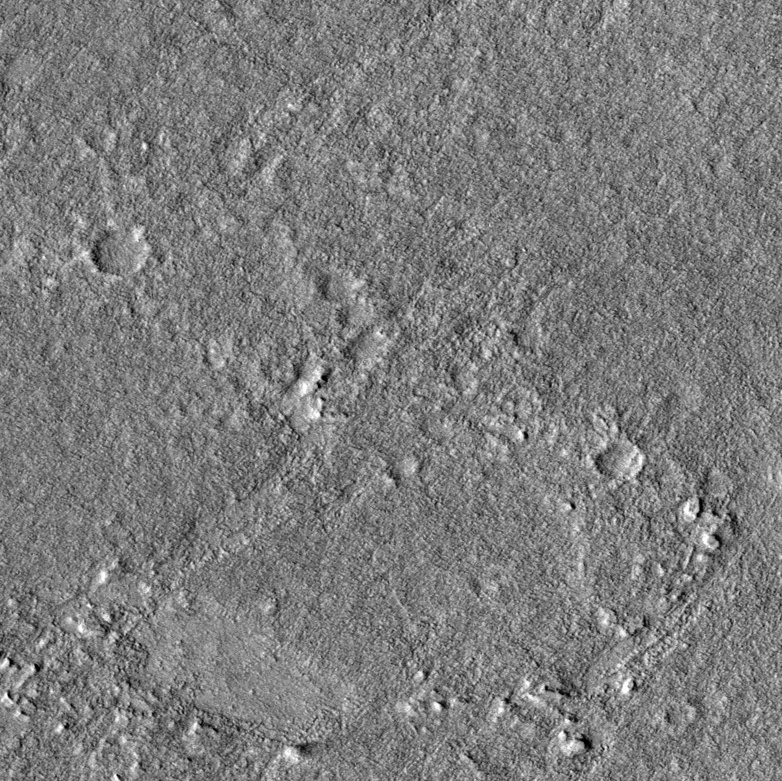dust_devil: (281, 738, 321, 764)
